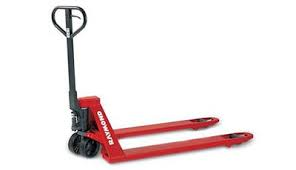Pallet Jack: (50, 5, 254, 163)
